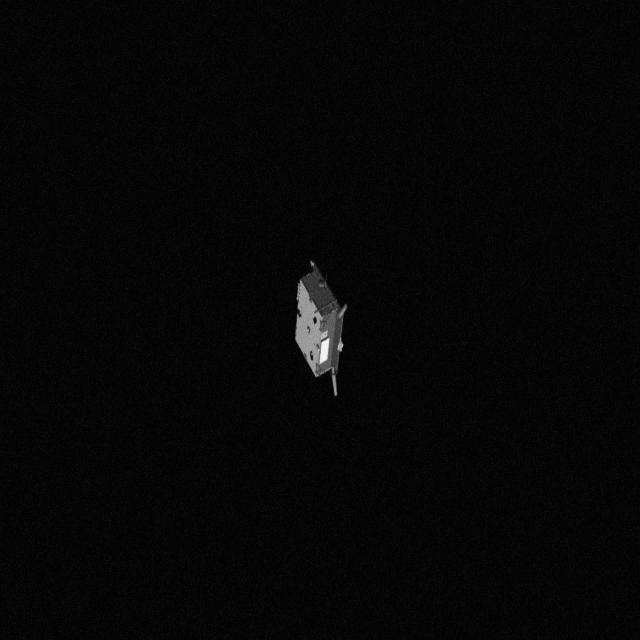satellite: (284, 262, 356, 396)
